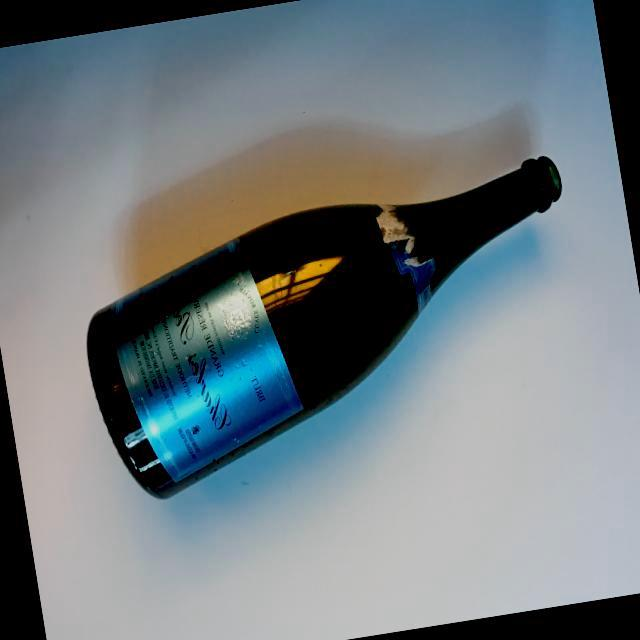glass: (57, 146, 608, 522)
